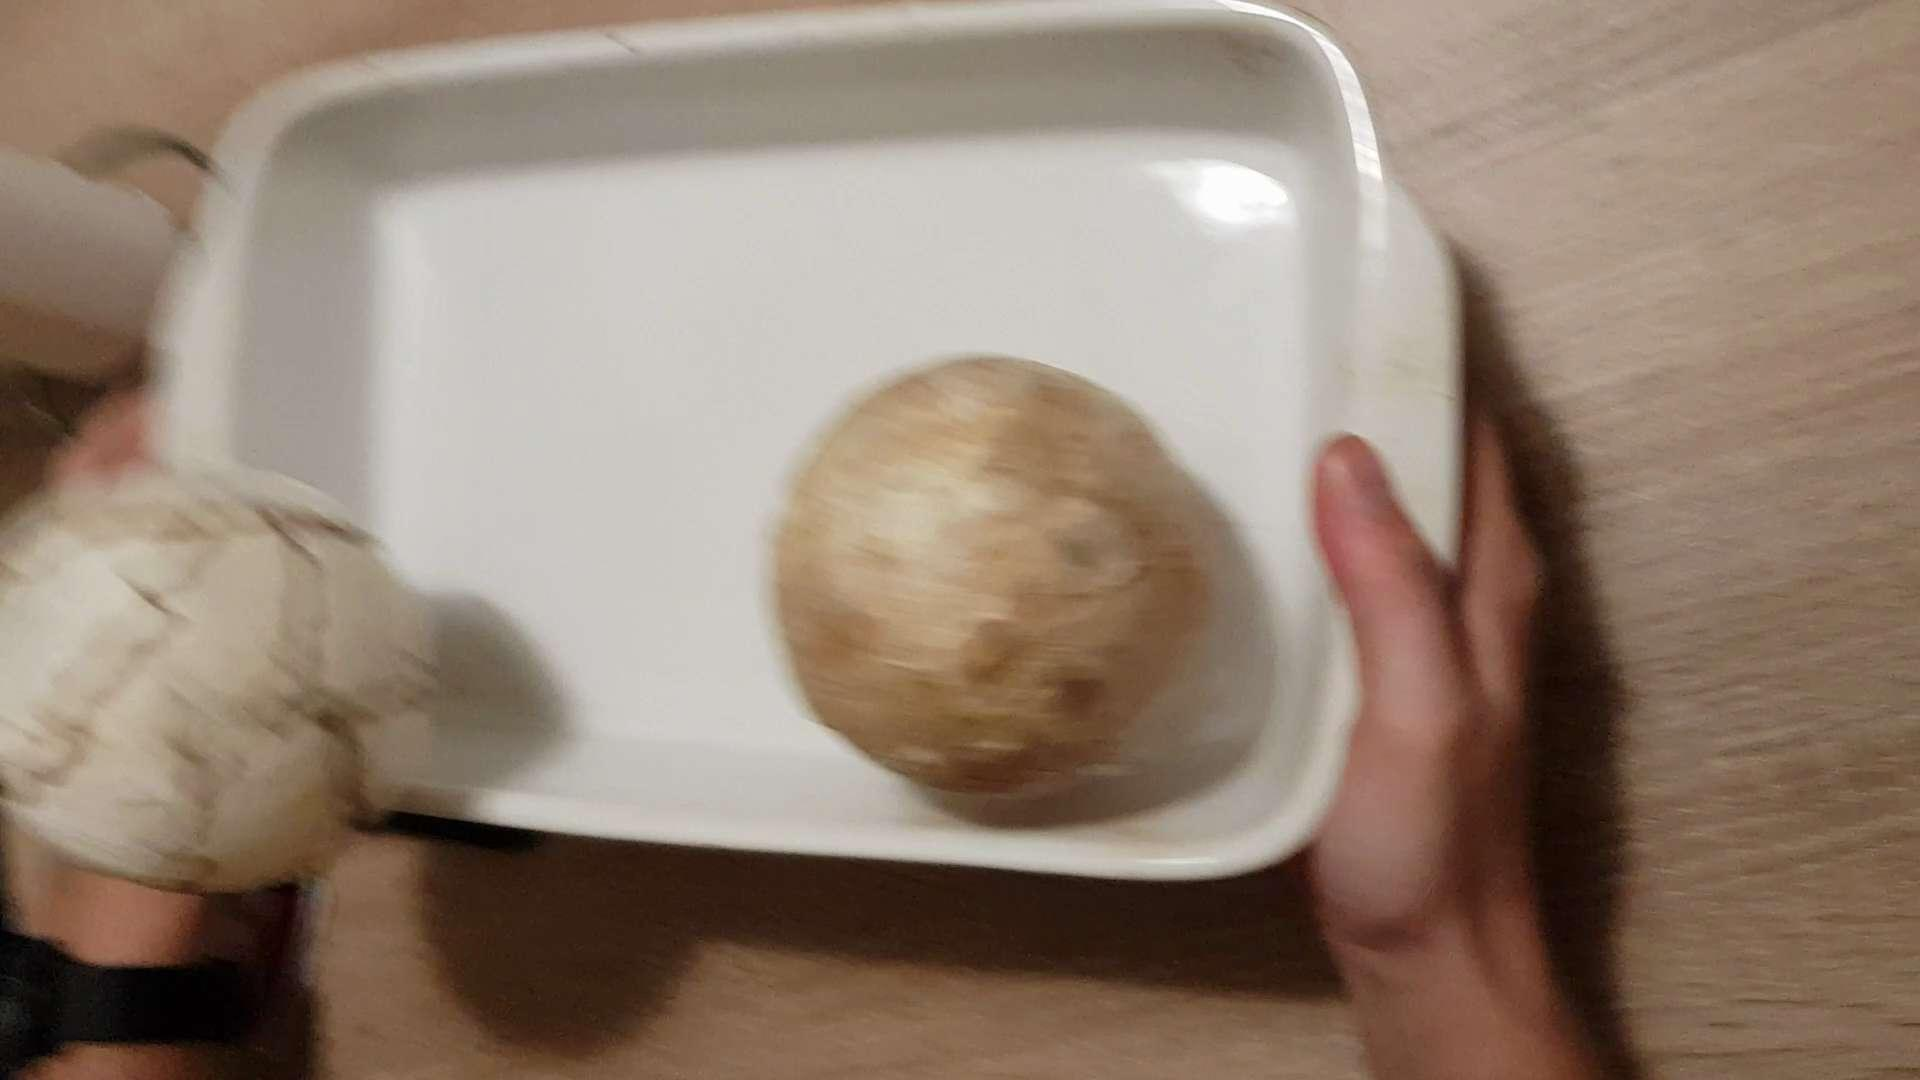sphere: (765, 349, 1203, 798)
